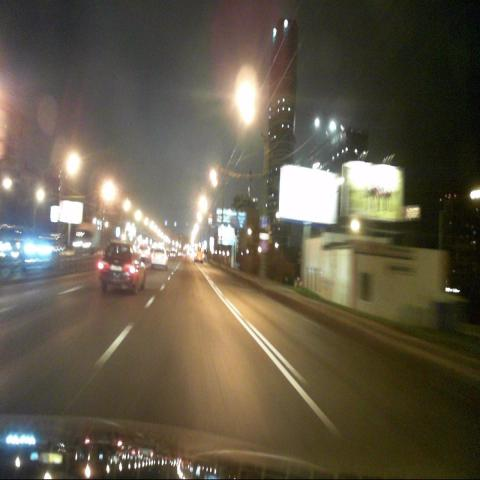3_27: (262, 241, 269, 253)
